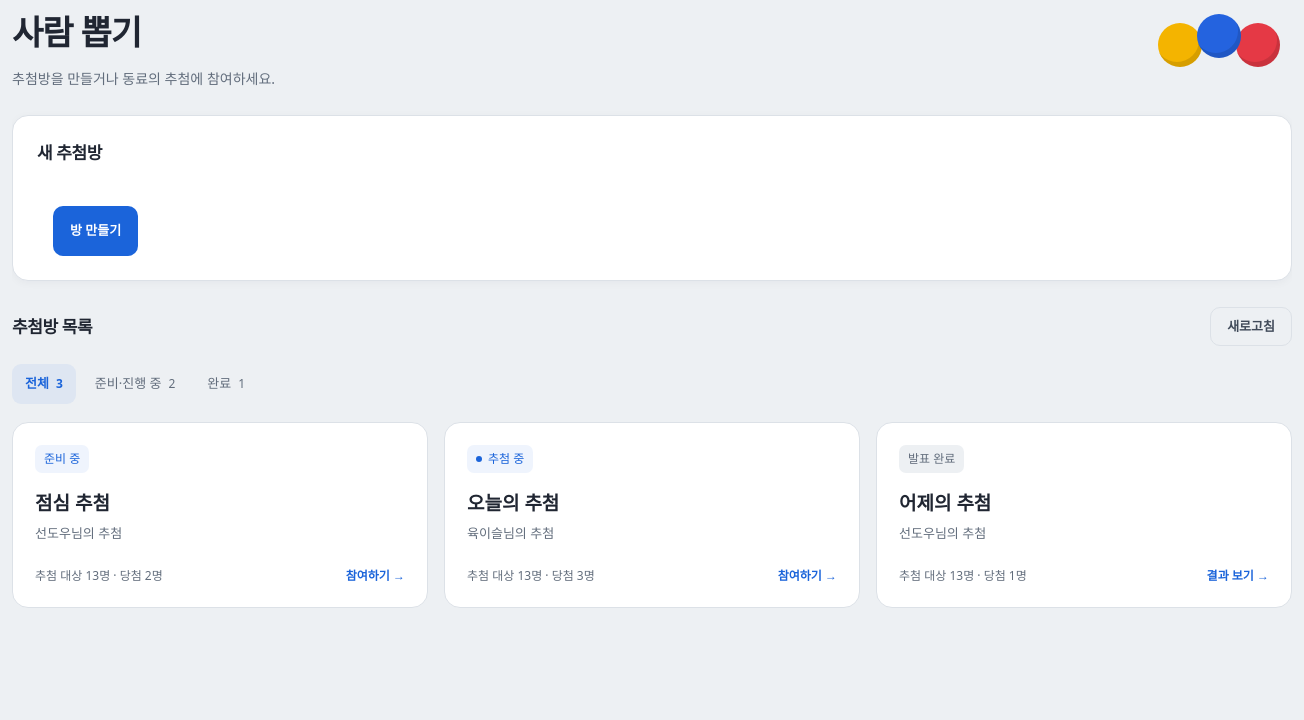
LotteryLobby › shows the refresh button as busy only until a manual refresh finishes
Click the button with aria-label "추첨방 목록 새로고침": (1251, 326) [1210,306,1292,346]
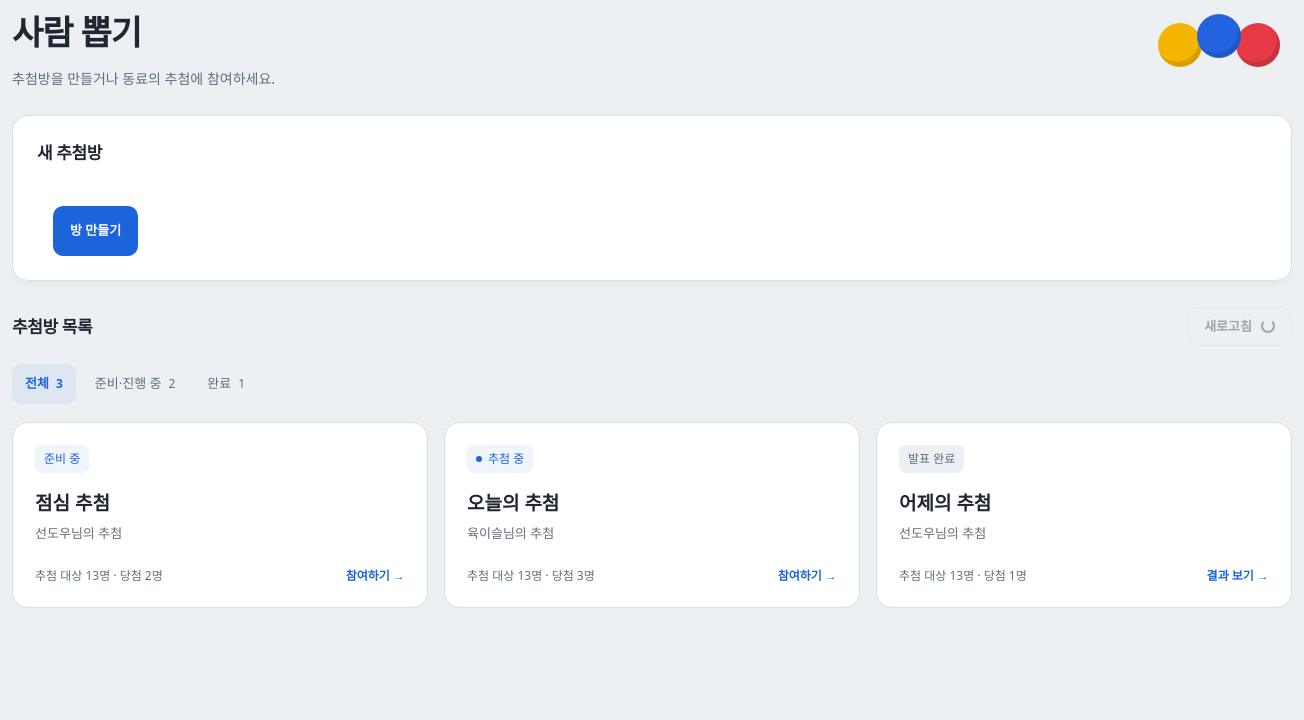
Now the button with aria-label "추첨방 목록 새로고침" is disabled
Click the button with aria-label "추첨방 목록 새로고침": (1240, 326) [1187,306,1292,346]
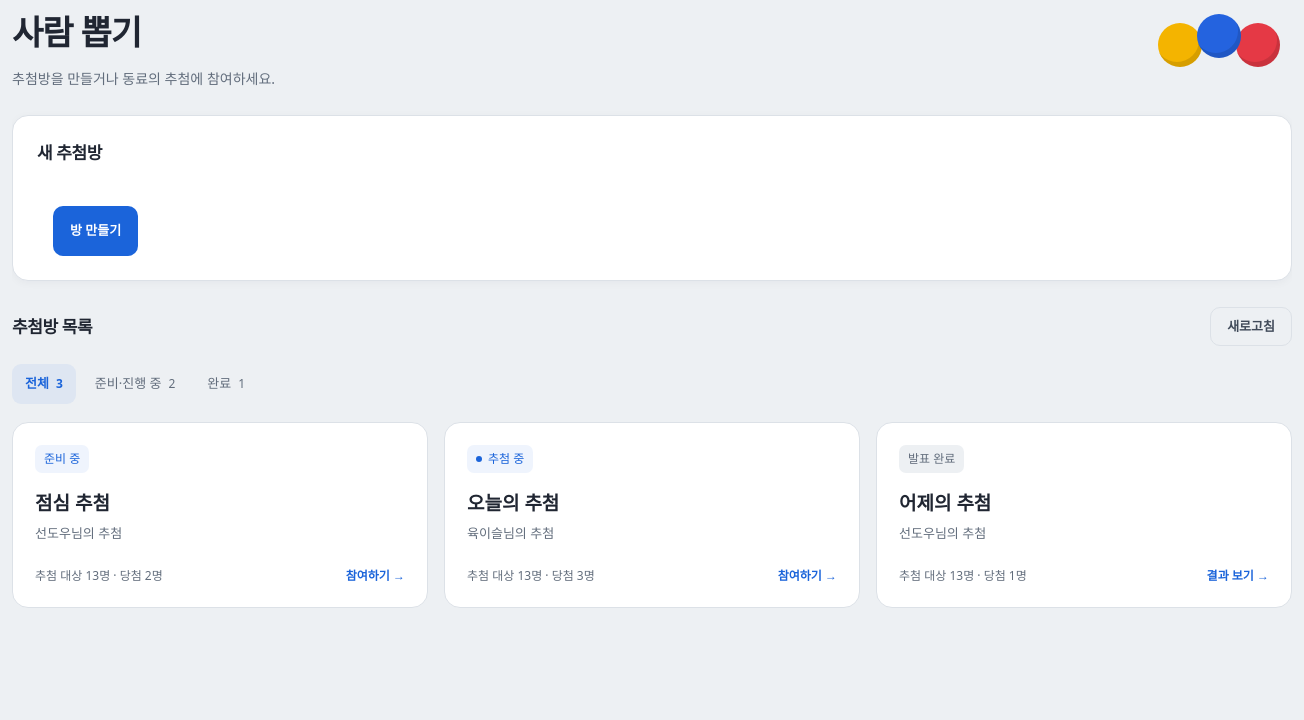
Now the button with aria-label "추첨방 목록 새로고침" is enabled, box [1210,306,1292,346]
